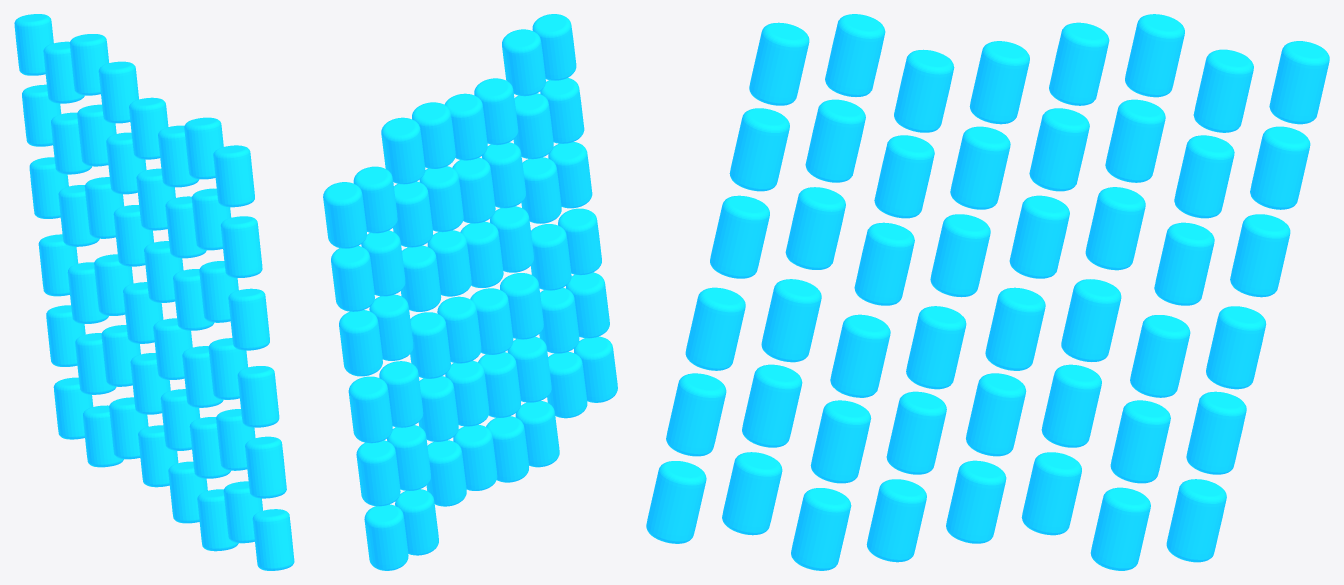
The model's file is drizzleDraco.gltf.
3 views of the same model, side by side, from view 1: azimuth 30°, elevation 25°; view 2: azimuth 150°, elevation 25°; view 3: azimuth 270°, elevation 25° (orthographic). The views are drawn at different scales.
Parts seen in each view (by area): view 1: Cylinder.1044, Cylinder.1041, Cylinder.1048; view 2: Cylinder.1044, Cylinder.1048, Cylinder.1041; view 3: Cylinder.1044, Cylinder.1048, Cylinder.1041.
Part boxes in pixels (x1,y1,x2,y2): Cylinder.1044: (69, 34, 279, 427); Cylinder.1041: (101, 325, 294, 570); Cylinder.1048: (14, 14, 123, 467); Cylinder.1044: (381, 14, 601, 378); Cylinder.1048: (323, 166, 438, 570); Cylinder.1041: (418, 272, 617, 506); Cylinder.1044: (685, 14, 1184, 397); Cylinder.1048: (1090, 41, 1329, 570); Cylinder.1041: (646, 364, 1101, 570).
Size of the model in its own units: 0.2381 by 2.92 by 3.32.
